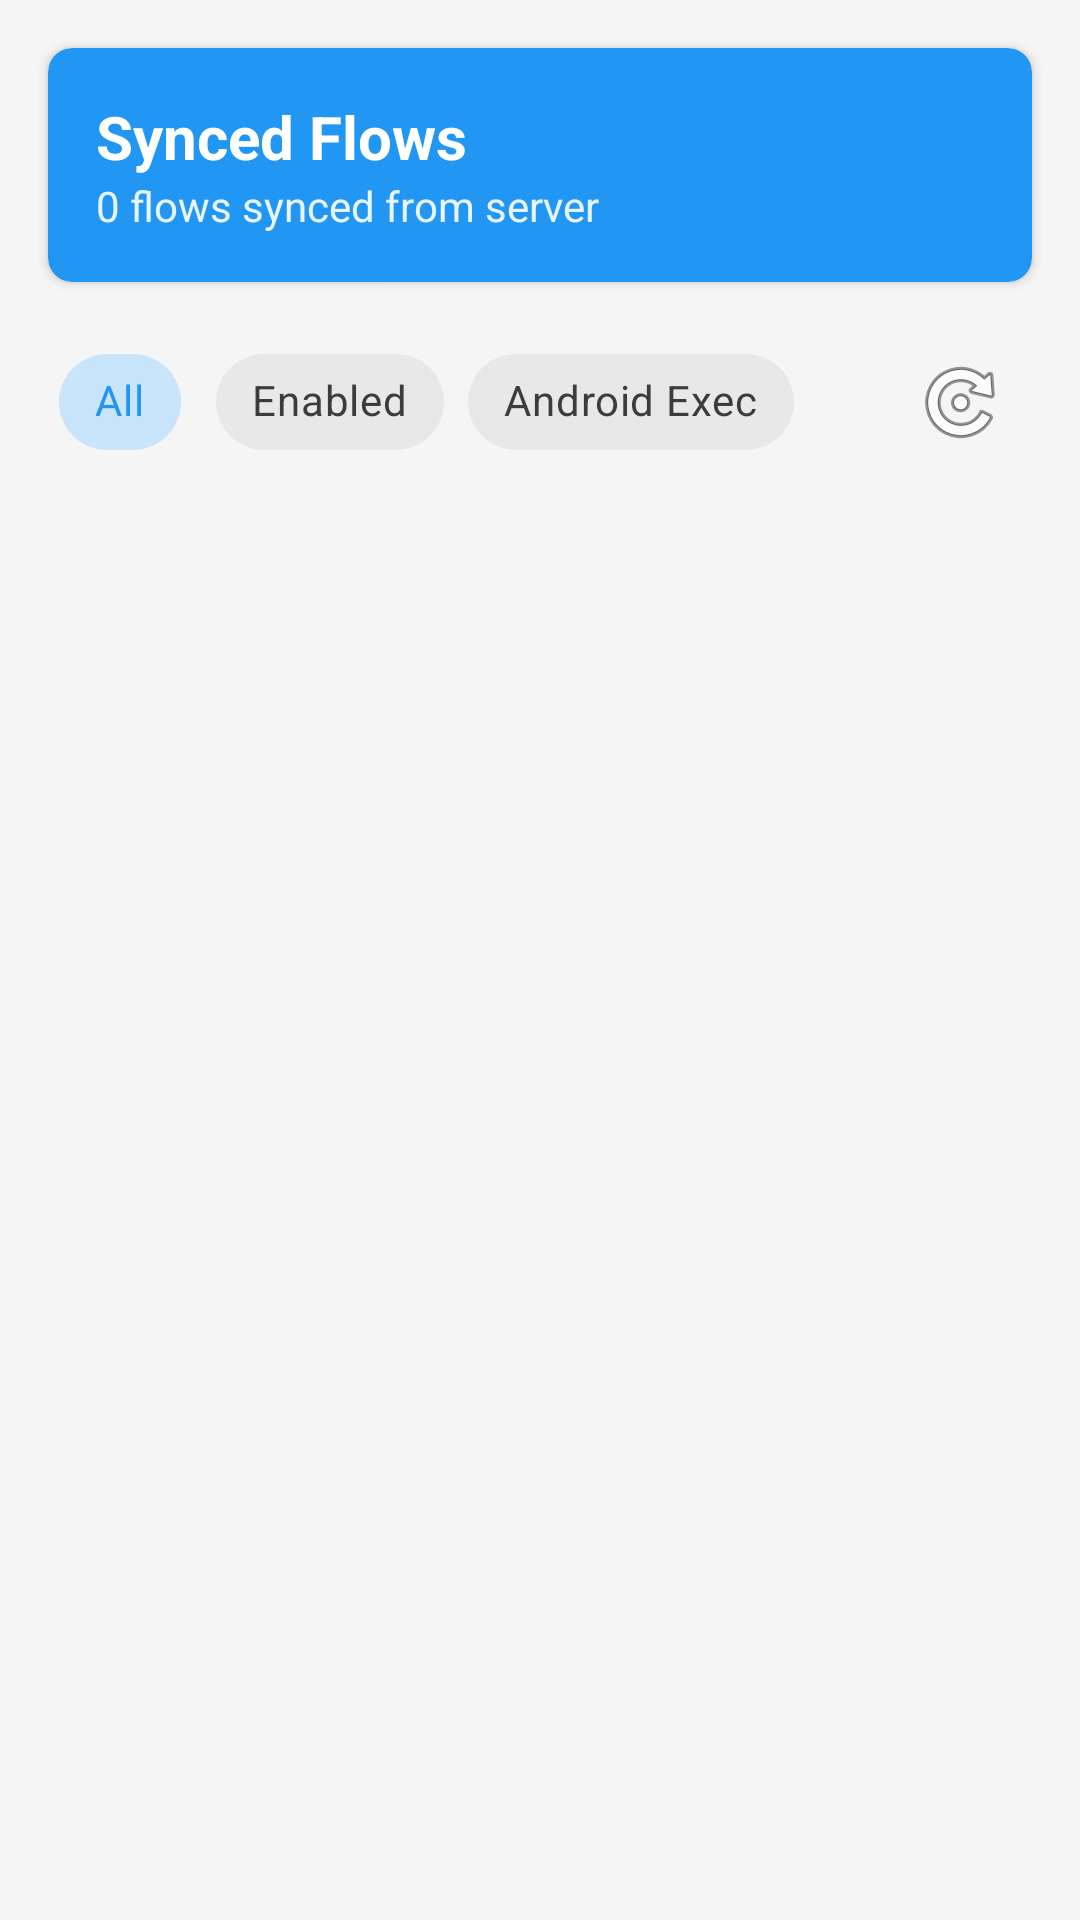

Icons on this 1080px×1920px Android screen, each with its box as [x1,y1,x2,y2]:
Refresh flows: [925,367,995,438]
